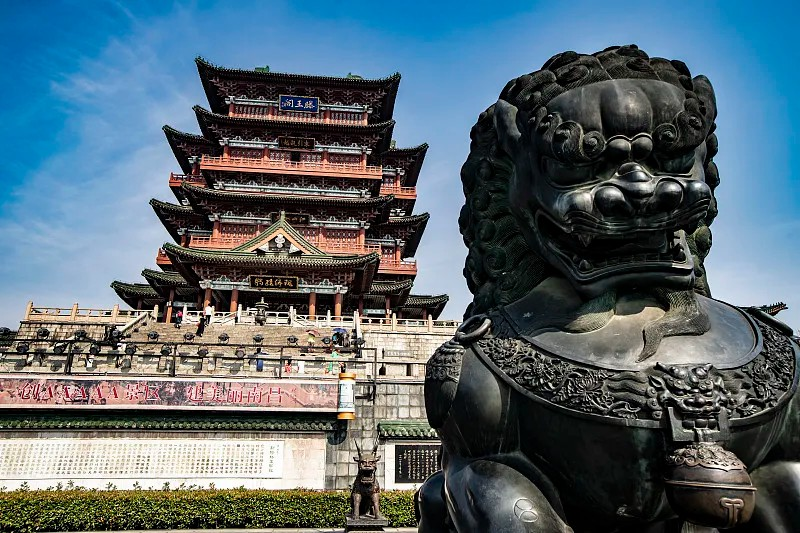Teng: (110, 54, 450, 320)
